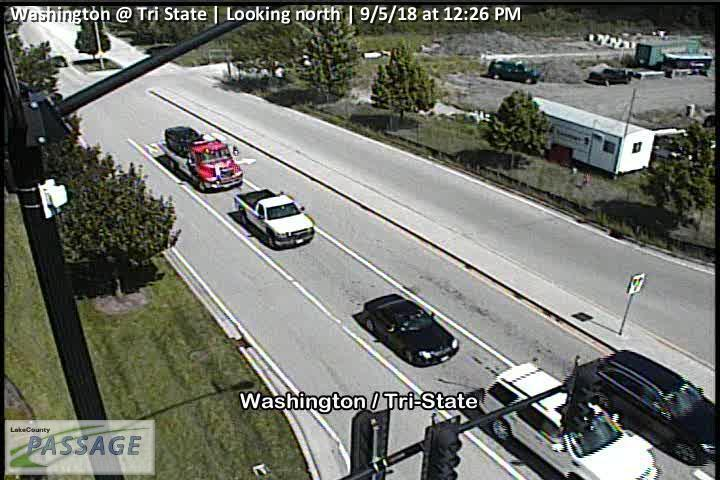SUV: (477, 362, 658, 480), (573, 351, 718, 465), (487, 59, 541, 85)
Sedan: (361, 294, 460, 367)
Truck: (153, 133, 243, 194), (234, 188, 316, 253)
